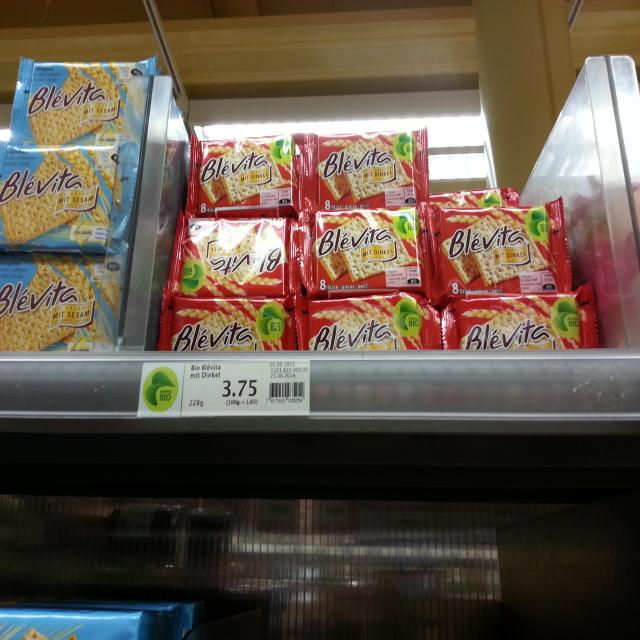Biscuits: (0, 141, 146, 246), (3, 51, 160, 143), (0, 258, 129, 357), (160, 212, 300, 298), (435, 207, 572, 293), (302, 203, 428, 287), (148, 291, 298, 361), (185, 140, 294, 225), (448, 297, 598, 353), (316, 134, 427, 209), (307, 296, 445, 356)
